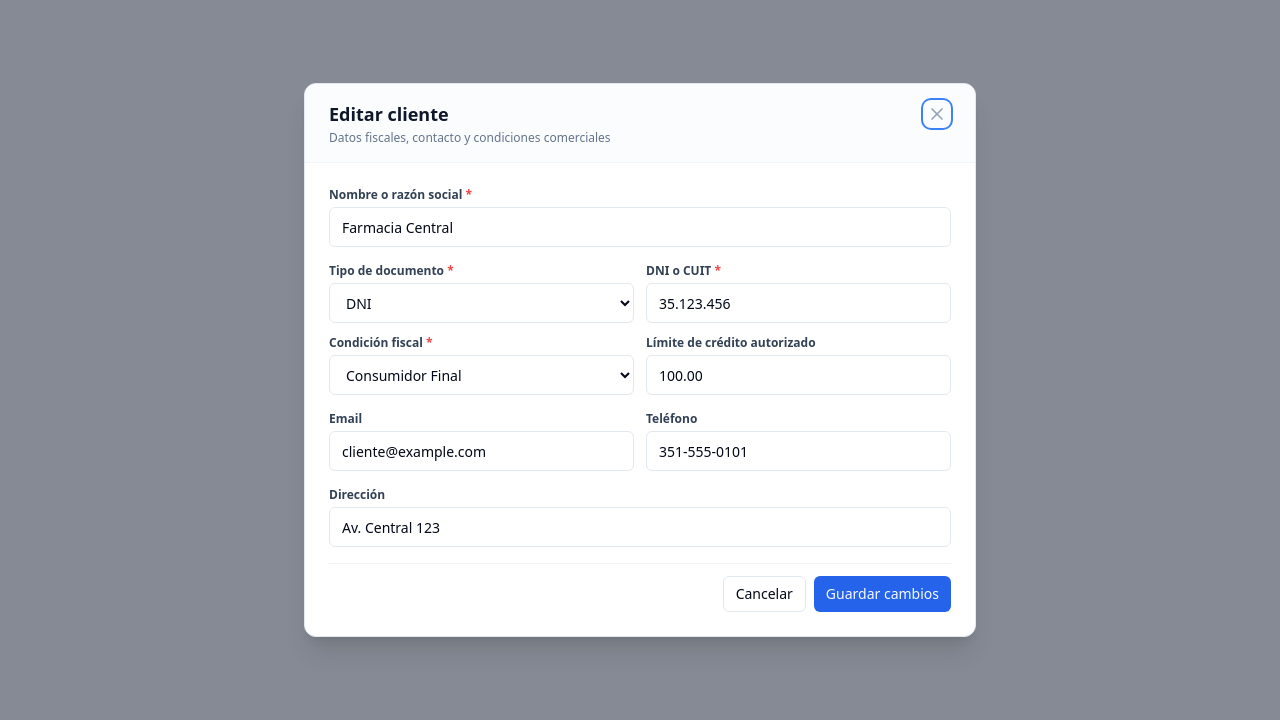
CustomerFormModal › stops an empty delta before making a request
This screenshot has width=1280, height=720.
expect the field showing "Farmacia Central" is shown: met, box top-left (329, 207), bottom-right (951, 247)
Click the button "Guardar cambios" at point(882, 594), box top-left (814, 576), bottom-right (951, 612)
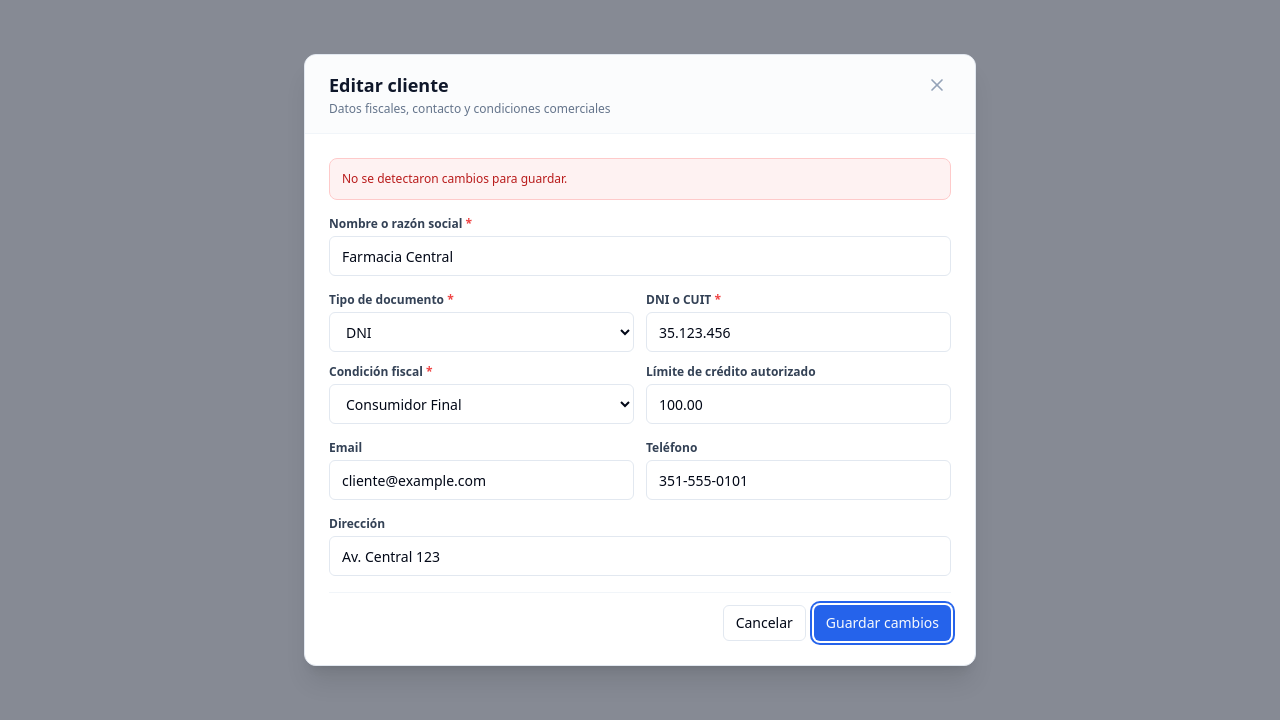
expect the text "No se detectaron cambios para guardar." is shown: met, box top-left (329, 158), bottom-right (951, 200)
